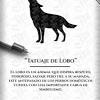Lobo: (19, 1, 74, 44)
